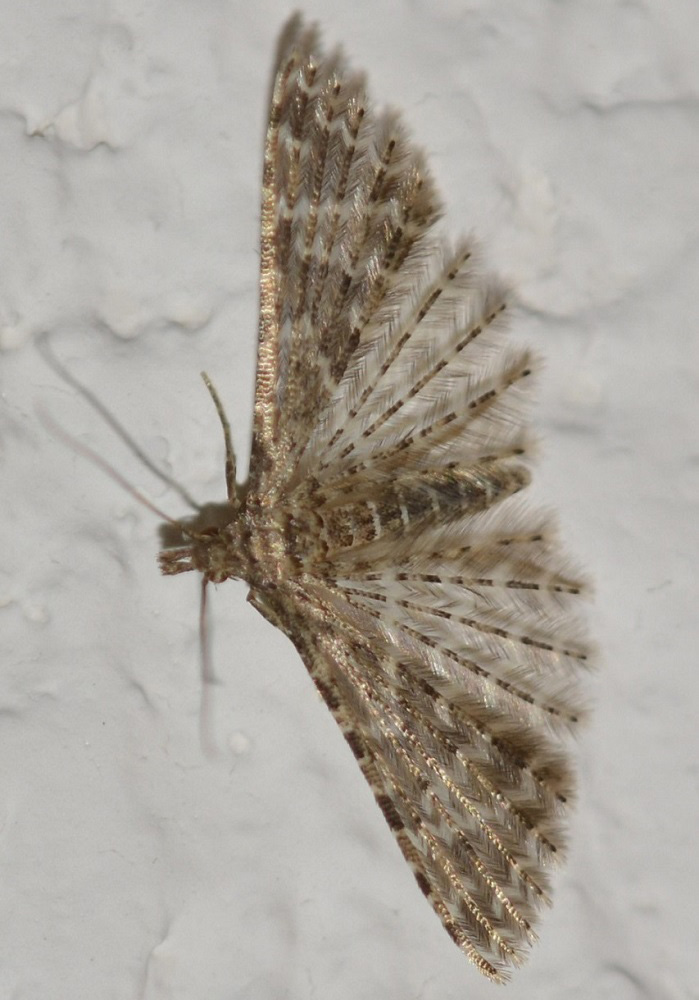Alucitidae: (43, 11, 600, 988)
moth: (45, 13, 602, 990)
